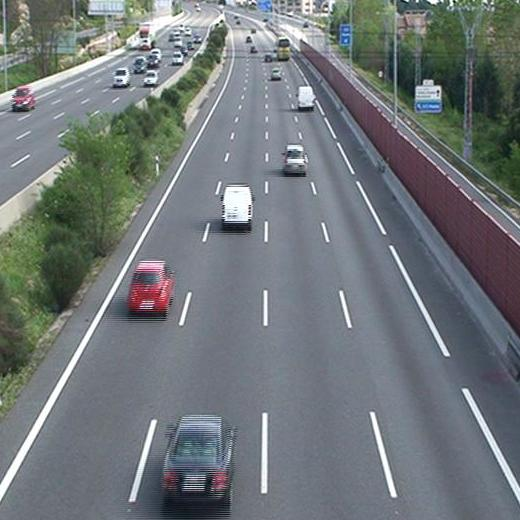bus: (276, 37, 290, 60)
car: (160, 413, 235, 506), (127, 260, 175, 315), (281, 144, 309, 174), (270, 68, 282, 81), (263, 53, 273, 62)
van: (221, 183, 255, 229), (297, 85, 314, 109)
